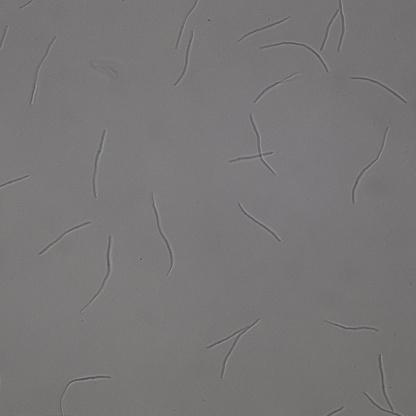Sensitive: (205, 315, 261, 379), (229, 111, 274, 177), (351, 127, 389, 203), (80, 235, 113, 313), (361, 354, 401, 416), (58, 374, 112, 415), (261, 40, 329, 71), (28, 35, 56, 104), (150, 192, 173, 276), (38, 220, 91, 253), (239, 203, 282, 242), (351, 76, 408, 103), (319, 1, 348, 52), (238, 15, 291, 42), (174, 1, 199, 48), (175, 31, 196, 85), (253, 73, 295, 99), (91, 128, 105, 198), (326, 320, 379, 335)
